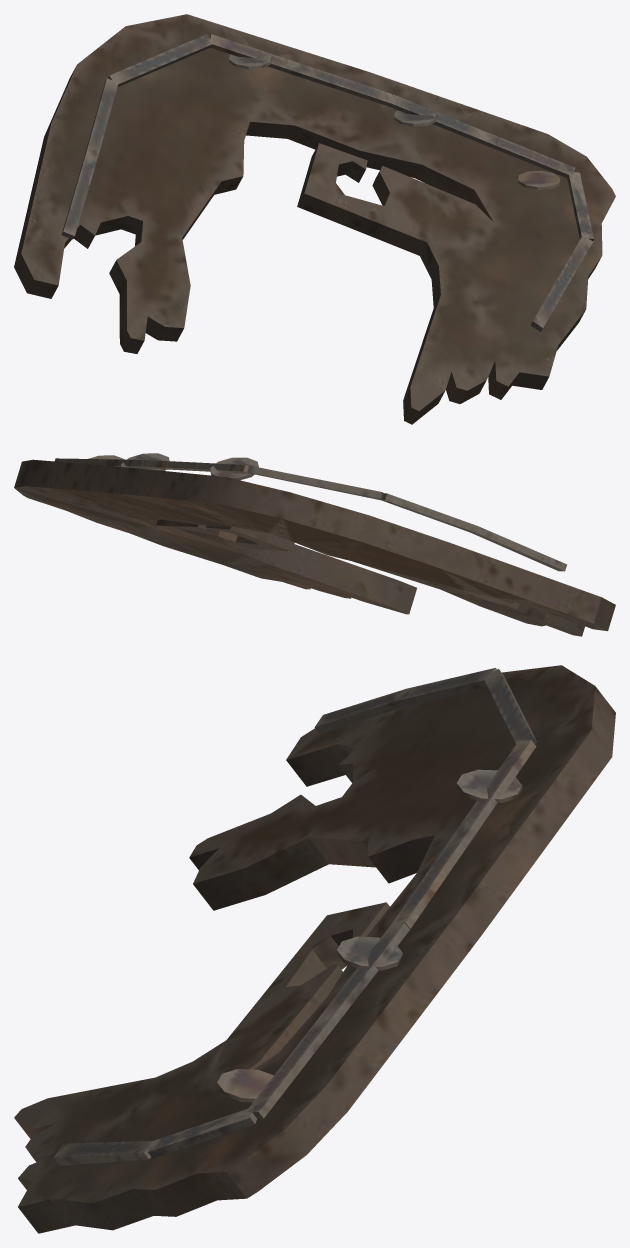
The model's file is crash-site-spaceship-wreck-small-4.glb.
3 renders of one model, top to bottom at view 1: azimuth 30°, elevation 25°; view 2: azimuth 150°, elevation 25°; view 3: azimuth 270°, elevation 25°, orthographic. The views are drawn at different scales.
Parts seen in each view (by area): view 1: body; view 2: body; view 3: body.
Part boxes in pixels (bbox=[...]): body: bbox=[14, 14, 615, 424]; body: bbox=[14, 453, 615, 636]; body: bbox=[14, 665, 615, 1233].
Bounding box in the file's own units: 2.03 × 0.967 × 1.33.
1 material, 1 textured.
